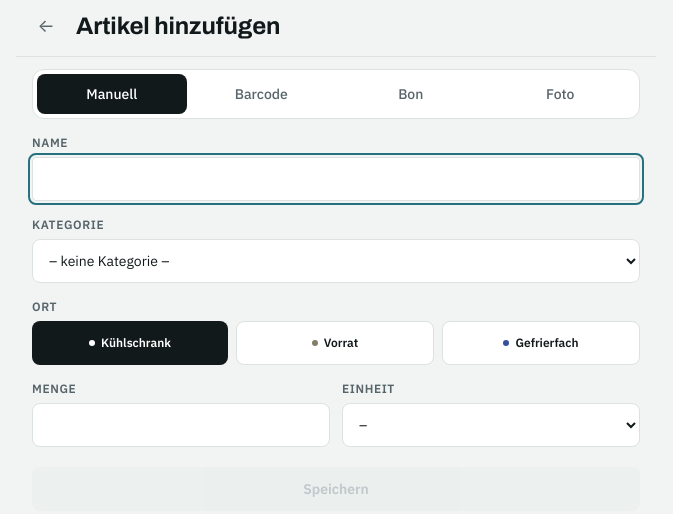
Test: AddItem — mode tabs › switches to receipt mode
Click the tab "Bon": [411, 94] box x1=336 y1=74 x2=486 y2=114
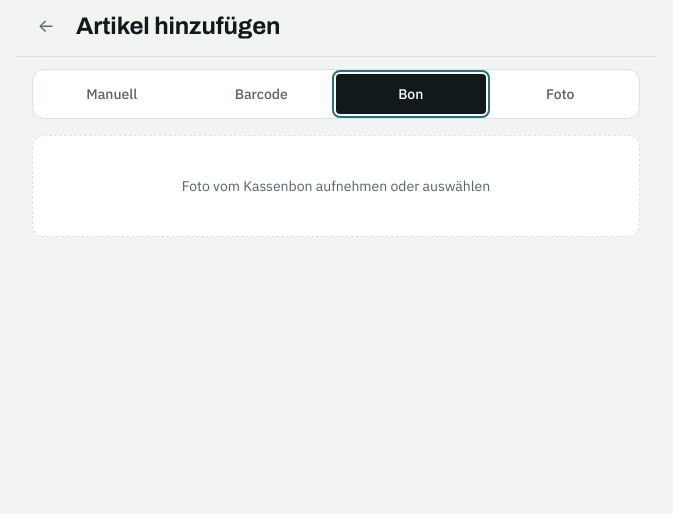
Expected: the file field "Foto vom Kassenbon aufnehmen oder auswählen" is shown, x1=32 y1=135 x2=640 y2=237
